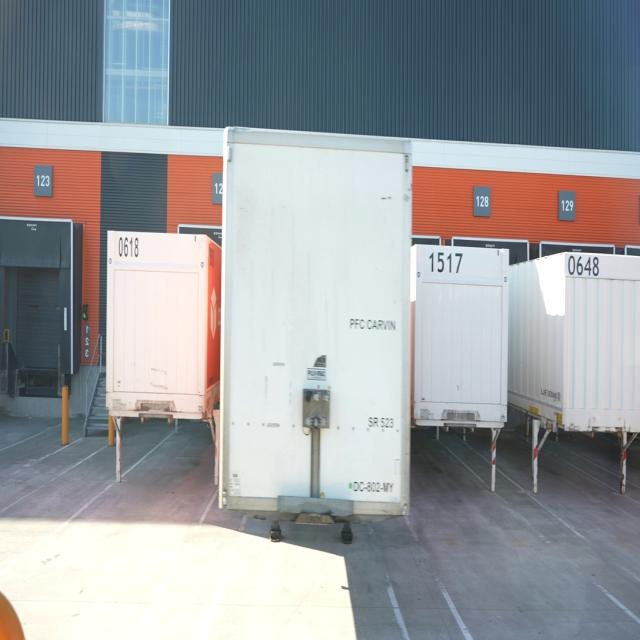Code: (426, 244, 468, 280), (564, 249, 602, 279), (114, 234, 143, 264)
